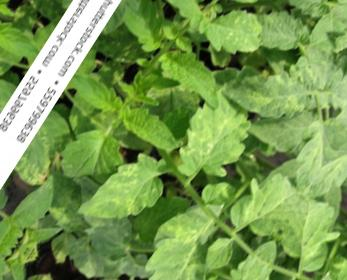Tomato leaf mosaic virus: (163, 69, 277, 197), (71, 136, 176, 249), (120, 195, 237, 280), (236, 85, 328, 173), (218, 51, 311, 137), (221, 160, 304, 248), (45, 116, 128, 202), (147, 41, 234, 117), (187, 0, 275, 72), (112, 100, 187, 164), (4, 169, 67, 239), (62, 69, 127, 124), (129, 0, 231, 34), (196, 232, 238, 276)
